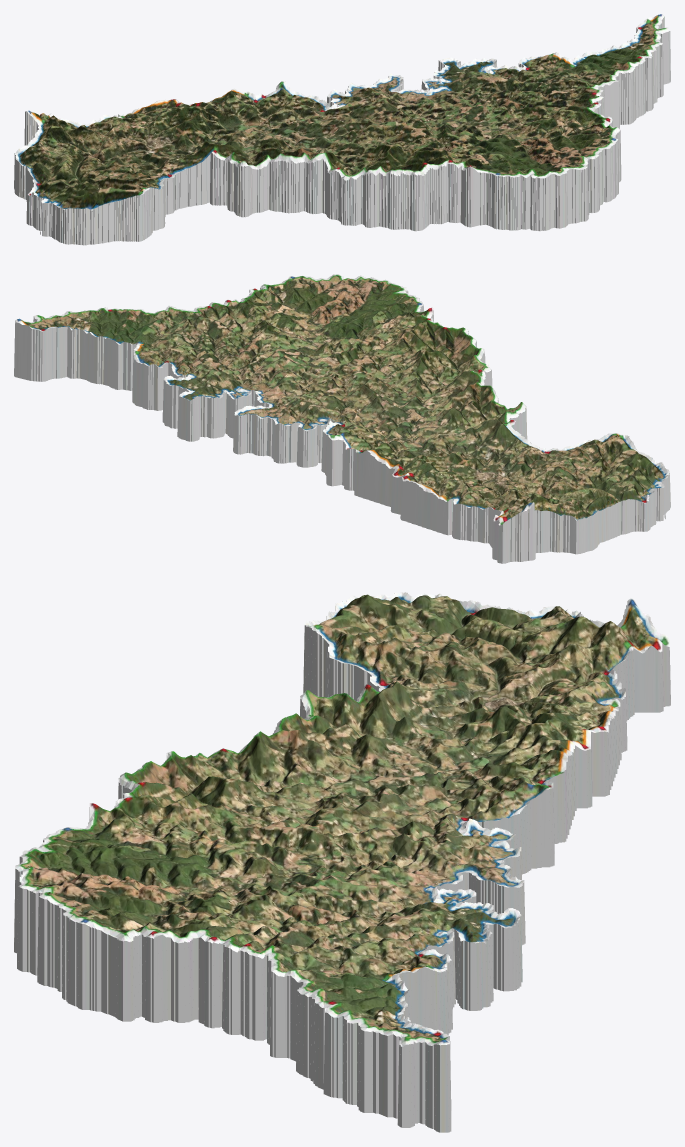
The picture shows the model from 3 angles, top to bottom: view 1: azimuth 30°, elevation 25°; view 2: azimuth 150°, elevation 25°; view 3: azimuth 270°, elevation 25°; orthographic projection. The views are drawn at different scales.
Bounding box in the file's own units: 1 × 0.0901 × 0.5671.
Materials: 1 (1 with a texture image).
